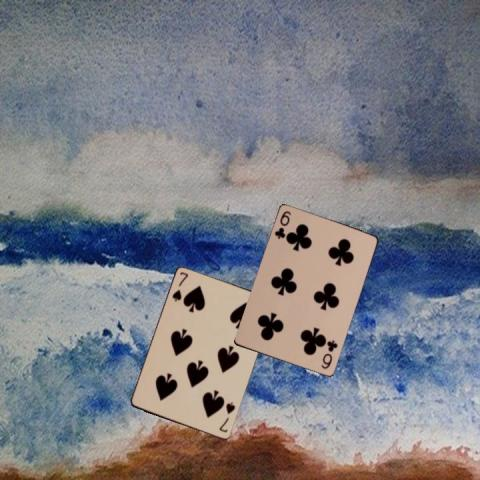6c: (271, 208, 293, 241), (318, 337, 339, 371)
7s: (216, 399, 237, 434), (170, 270, 190, 304)
